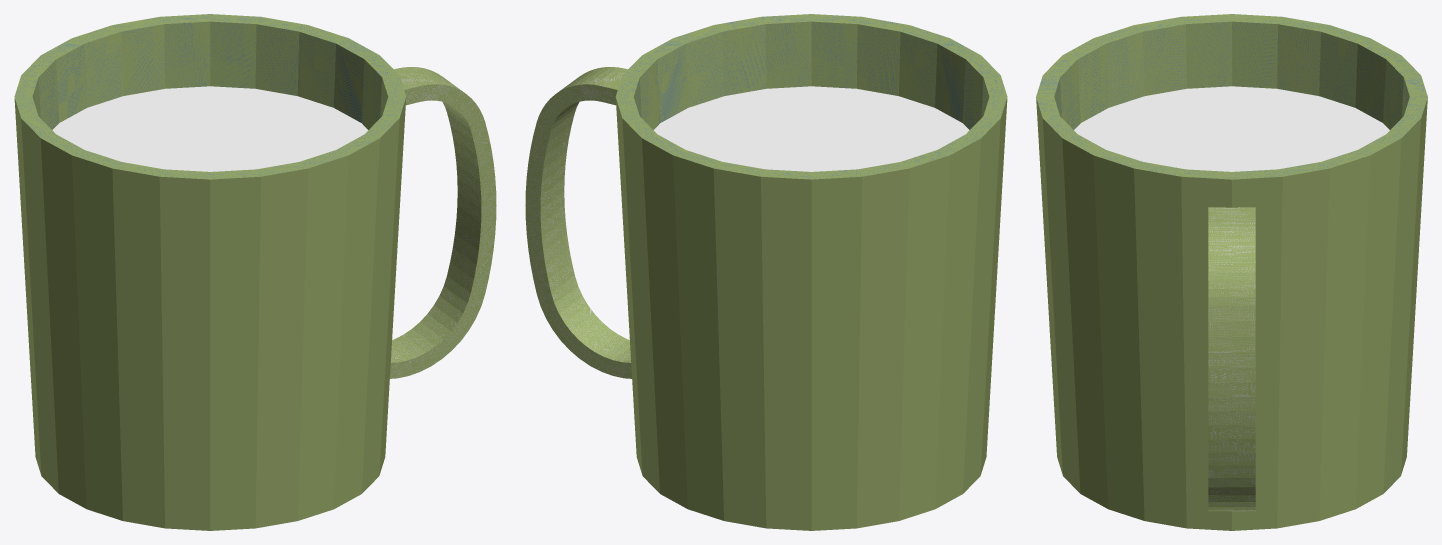
3 views of the same model, side by side, from view 1: azimuth 30°, elevation 25°; view 2: azimuth 150°, elevation 25°; view 3: azimuth 270°, elevation 25° (orthographic).
Visible parts, largest first — view 1: mesh2.001_mesh2-geometry, mesh1.001_mesh1-geometry, mesh3_mesh3-geometry; view 2: mesh2.001_mesh2-geometry, mesh1.001_mesh1-geometry, mesh3_mesh3-geometry; view 3: mesh2.001_mesh2-geometry, mesh1.001_mesh1-geometry, mesh3_mesh3-geometry.
Boxes of the visible parts, bbox=[...] form: mesh2.001_mesh2-geometry: bbox=[14, 14, 406, 530]; mesh1.001_mesh1-geometry: bbox=[52, 86, 368, 171]; mesh3_mesh3-geometry: bbox=[390, 67, 496, 378]; mesh2.001_mesh2-geometry: bbox=[615, 14, 1007, 530]; mesh1.001_mesh1-geometry: bbox=[653, 86, 969, 171]; mesh3_mesh3-geometry: bbox=[525, 67, 631, 378]; mesh2.001_mesh2-geometry: bbox=[1036, 14, 1427, 530]; mesh1.001_mesh1-geometry: bbox=[1074, 86, 1389, 171]; mesh3_mesh3-geometry: bbox=[1208, 207, 1255, 511].
Size of the model in its own units: 0.6763 by 0.5246 by 0.5171.
